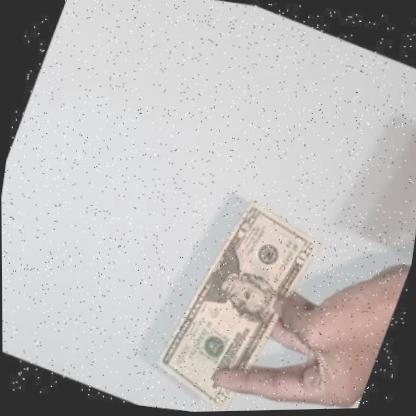twenty-front: (141, 177, 326, 414)
